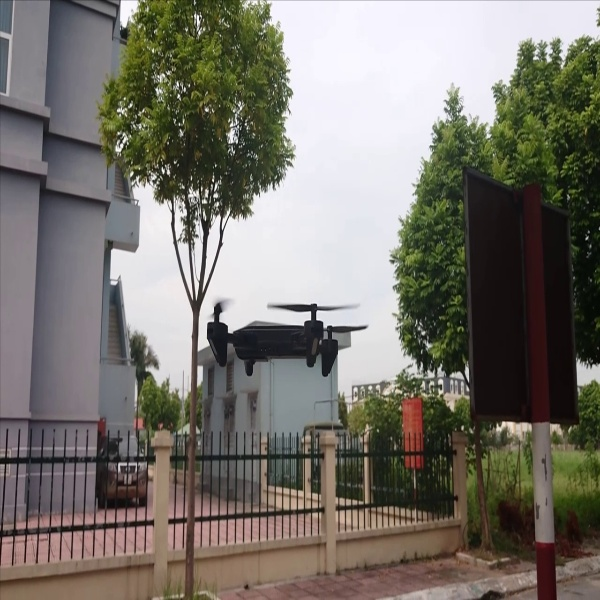drone: (200, 290, 379, 384)
